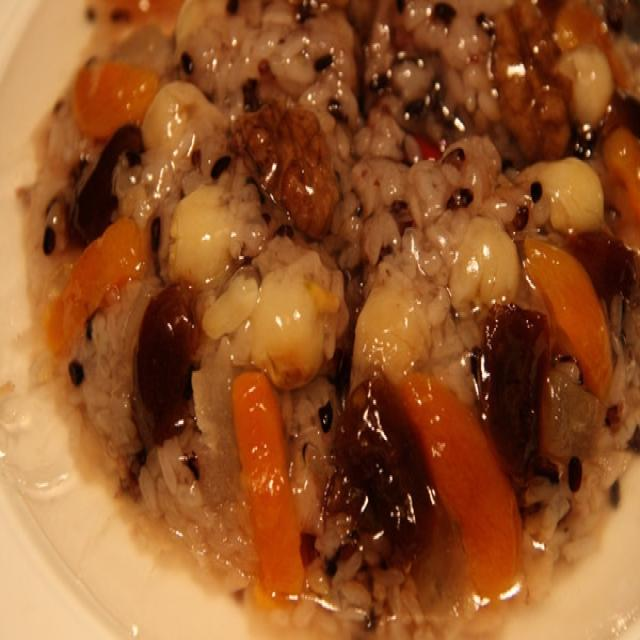米饭主食: (9, 1, 638, 612)
